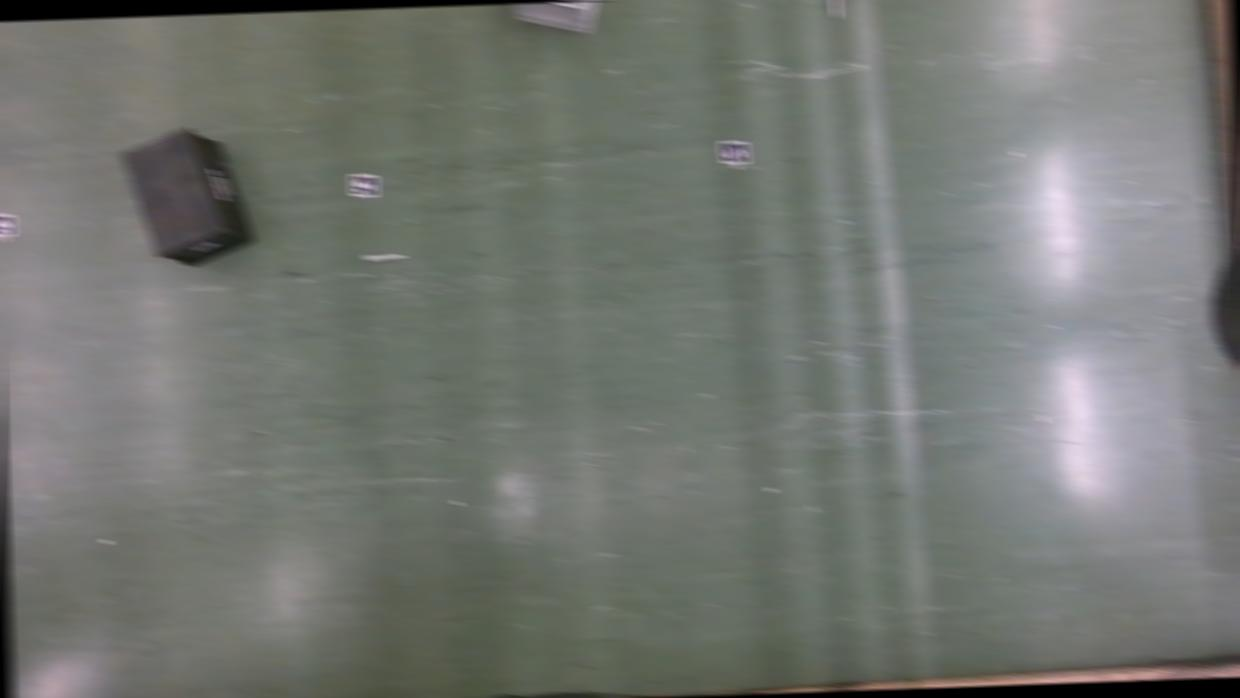probes: (364, 249, 407, 262), (823, 0, 844, 19)
rako: (120, 126, 256, 270), (514, 0, 605, 32)
